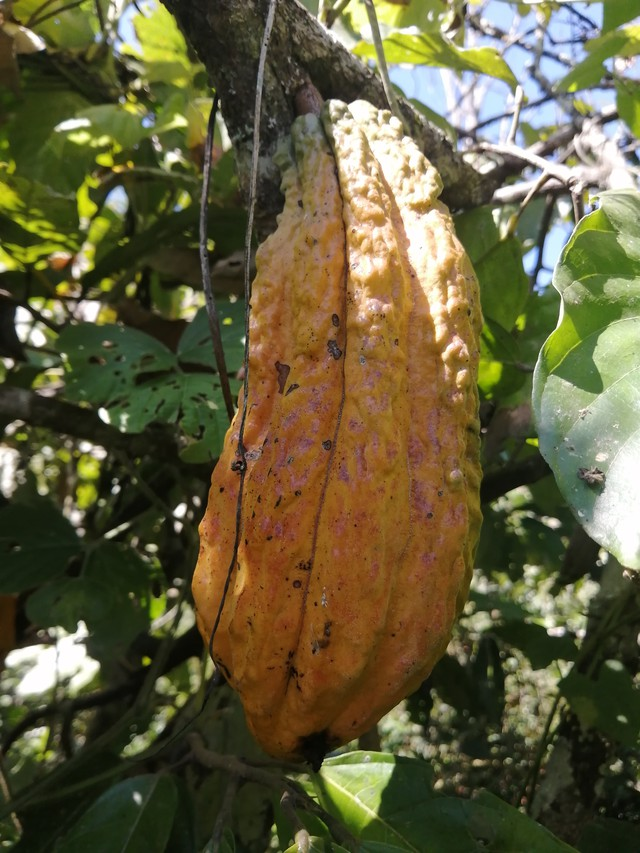carmenta foraseminis: (187, 93, 481, 775)
